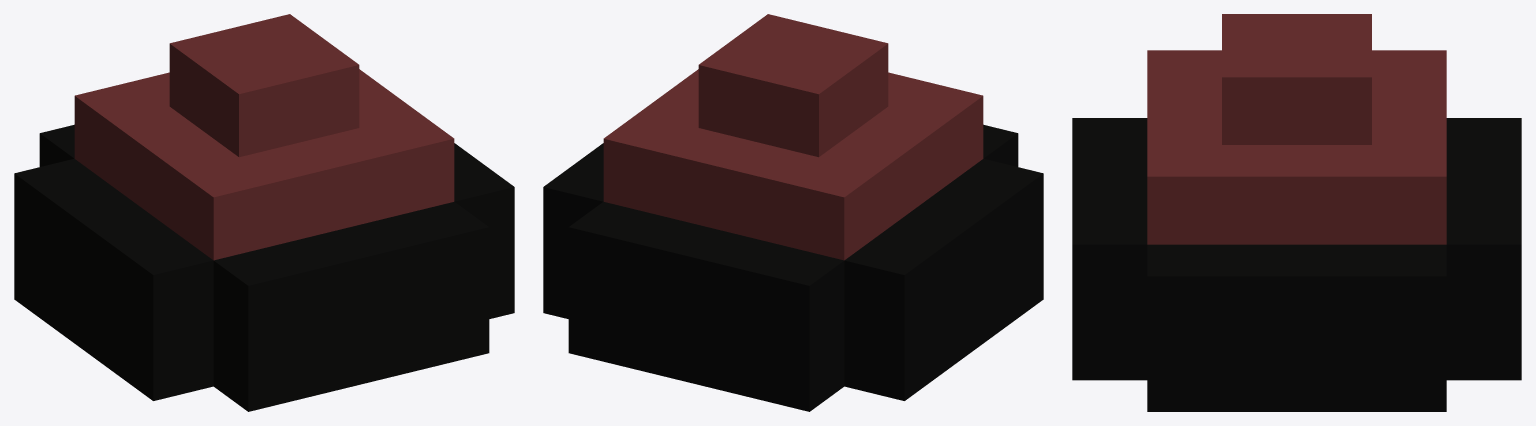
Rendered from characters_export_red-220-helm_lgt_2b_ja_color.obj.
3 views of the same model, side by side, from view 1: azimuth 30°, elevation 25°; view 2: azimuth 150°, elevation 25°; view 3: azimuth 270°, elevation 25° (orthographic). The views are drawn at different scales.
Parts seen in each view (by area): view 1: helm_lgt_2b_ja_color; view 2: helm_lgt_2b_ja_color; view 3: helm_lgt_2b_ja_color.
Part boxes in pixels (x1,y1,x2,y2): helm_lgt_2b_ja_color: [14, 14, 514, 411]; helm_lgt_2b_ja_color: [543, 14, 1043, 411]; helm_lgt_2b_ja_color: [1072, 14, 1521, 411].
Bounding box in the file's own units: 0.6 × 0.4 × 0.6.
Materials: 1 (1 with a texture image).
